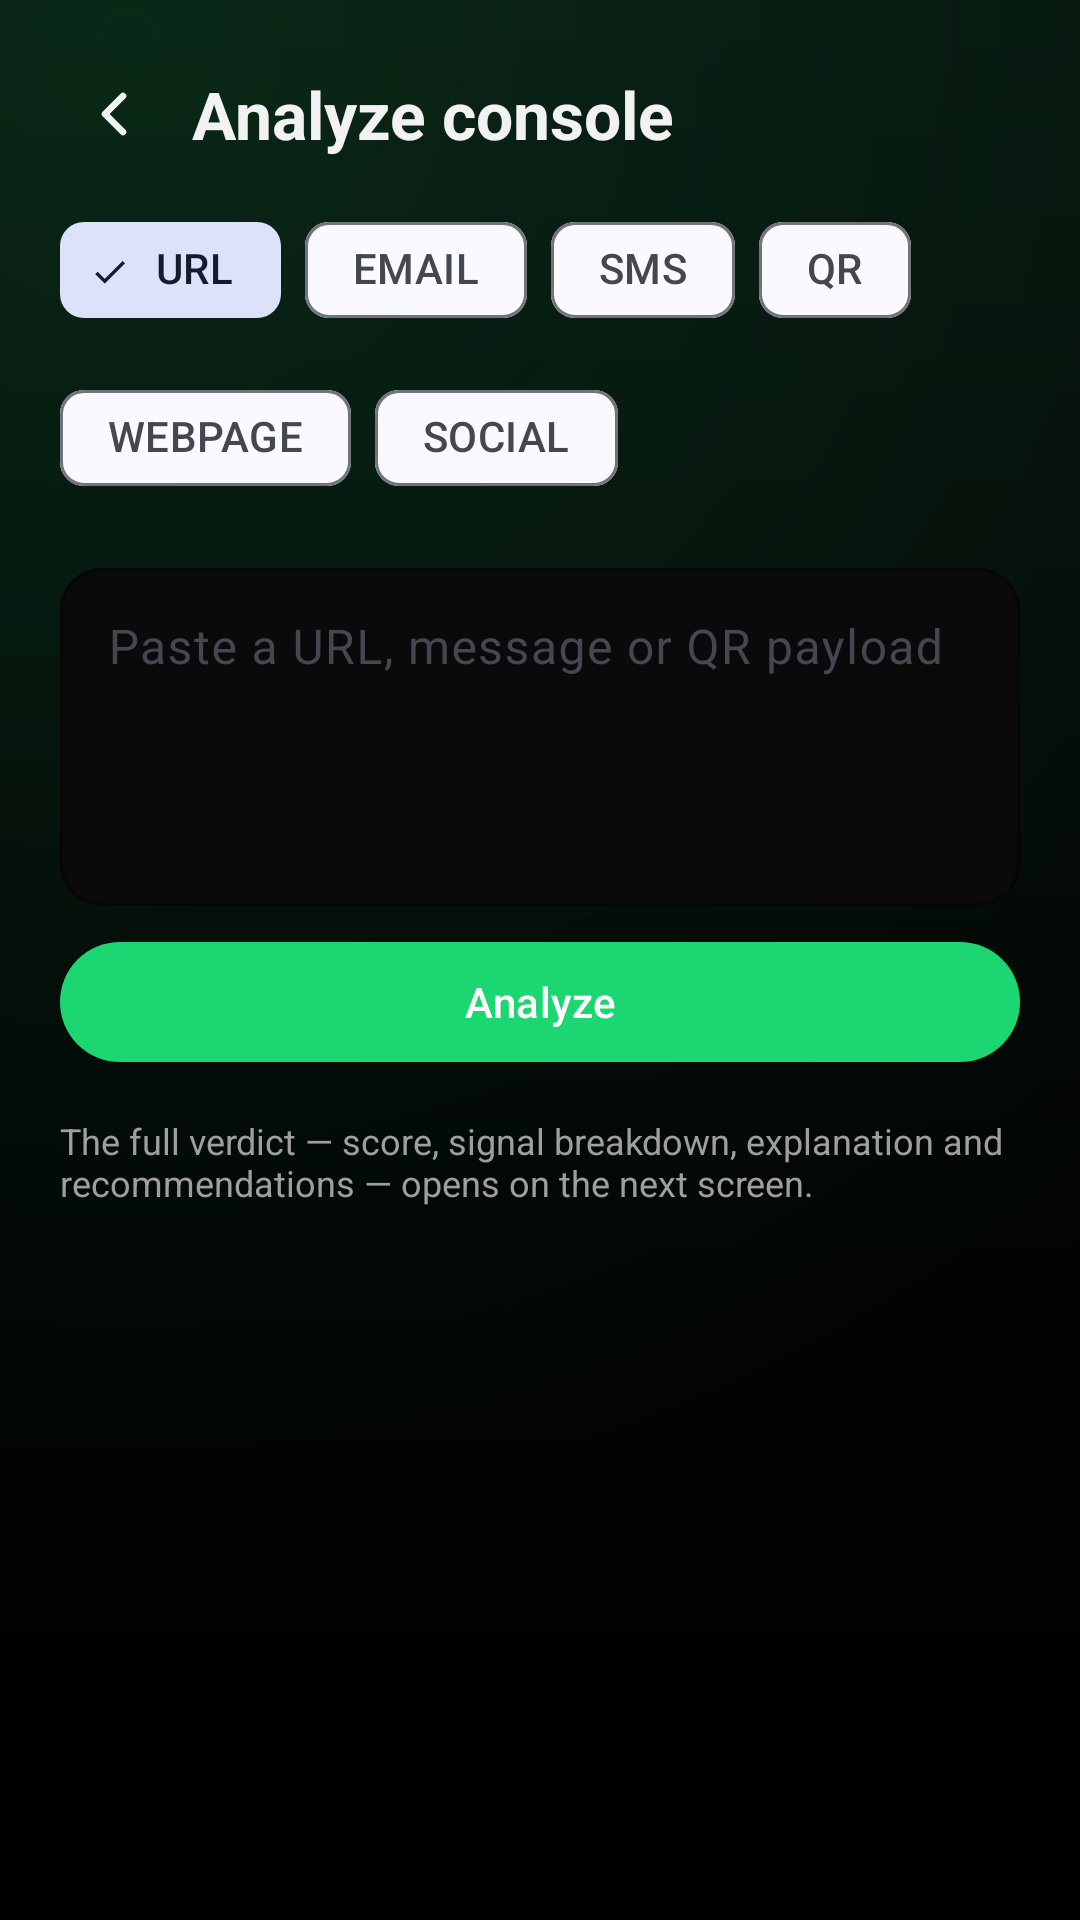

Screen size 1080×1920. Icon name, then its box in pixels as (x1, y1, x2, y2):
Back: (101, 92, 127, 136)
